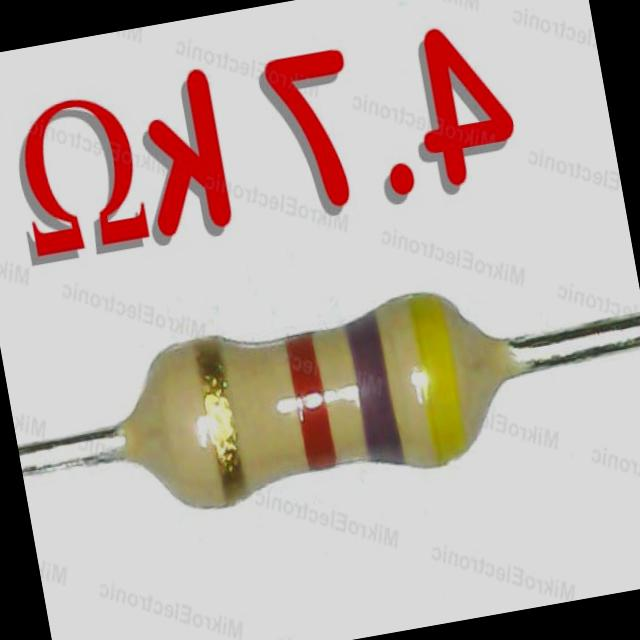Resistor: (127, 293, 503, 505)
gold: (193, 334, 248, 505)
purple: (344, 309, 404, 467)
red: (285, 331, 336, 470)
yellow: (406, 293, 466, 462)
